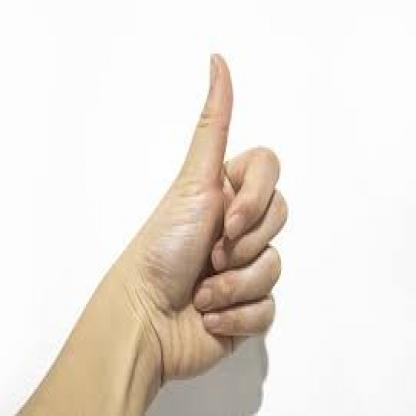thumb_up: (118, 48, 289, 383)
